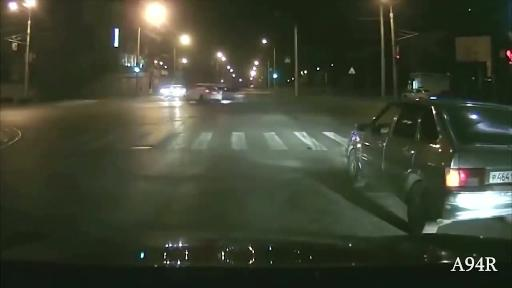Accident: (112, 46, 258, 125)
